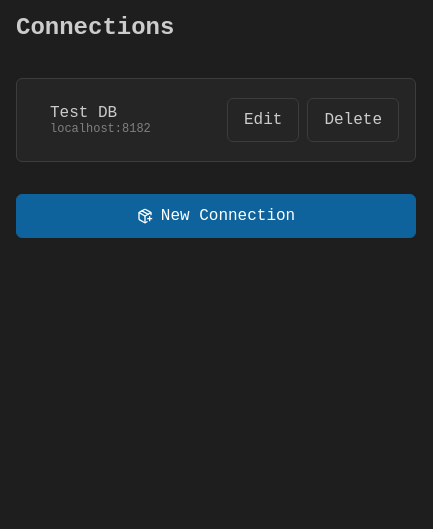
Test: App › does not set window title if connect fails
Expected: the text "Test DB" is shown, [50,104,117,122]
Click the button "Test DB localhost:8182" at [124, 120], box [33,91,215,149]
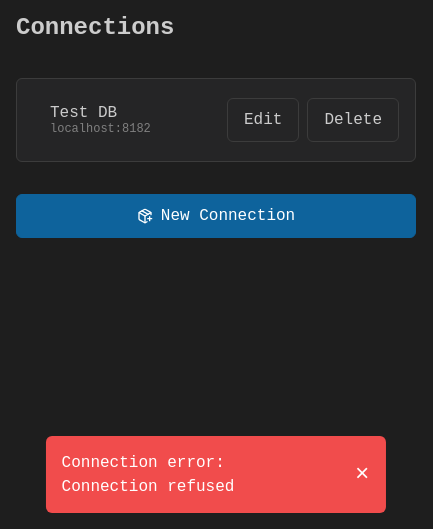
Result: the text "Connection error: Connection refused" is shown at [62,454,234,496]
